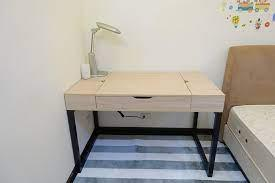desk: (51, 49, 230, 169)
